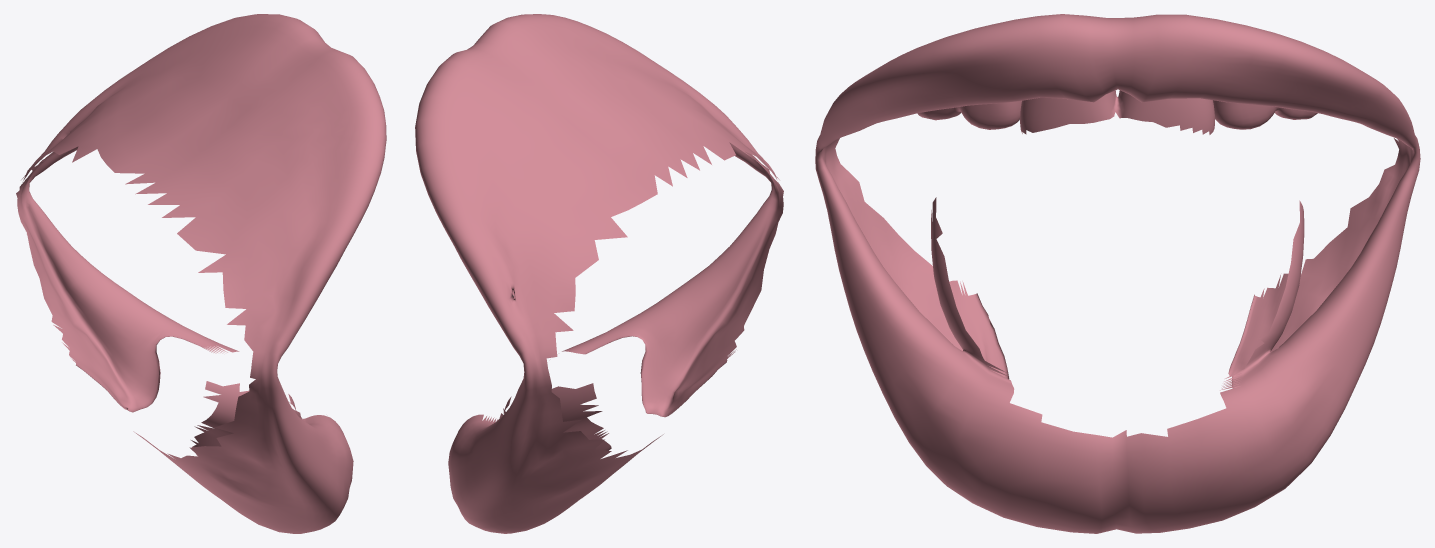
File: realistic-open-mouth-lips-tight.glb
The picture shows the model from 3 angles, left to right: view 1: azimuth 30°, elevation 25°; view 2: azimuth 150°, elevation 25°; view 3: azimuth 270°, elevation 25°; orthographic projection. The views are drawn at different scales.
Visible parts, largest first — view 1: lips-tight; view 2: lips-tight; view 3: lips-tight.
Boxes of the visible parts, <box> form: lips-tight: <box>16,14,386,533</box>; lips-tight: <box>415,14,783,533</box>; lips-tight: <box>815,14,1420,533</box>.
Size of the model in its own units: 0.4731 by 0.9483 by 0.9448.
